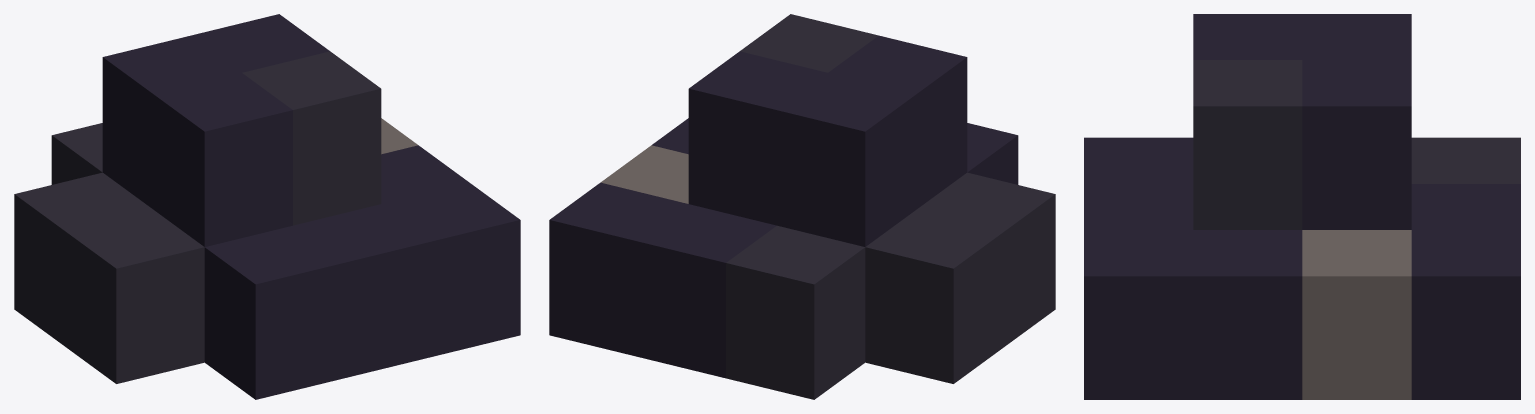
Rendered from ObsidianStackSmall.glb.
3 renders of one model, left to right at view 1: azimuth 30°, elevation 25°; view 2: azimuth 150°, elevation 25°; view 3: azimuth 270°, elevation 25°, orthographic. The views are drawn at different scales.
Parts seen in each view (by area): view 1: ObsidianStackSmall; view 2: ObsidianStackSmall; view 3: ObsidianStackSmall.
Boxes of the visible parts, bbox=[...] form: ObsidianStackSmall: bbox=[14, 14, 520, 399]; ObsidianStackSmall: bbox=[549, 14, 1055, 399]; ObsidianStackSmall: bbox=[1084, 14, 1520, 399].
Size of the model in its own units: 8 by 5 by 8.
Materials: 1 (1 with a texture image).
